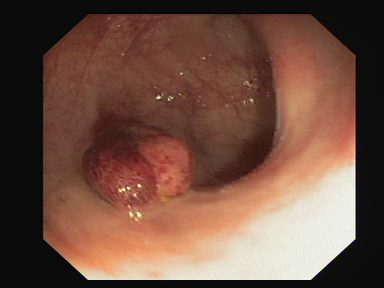polyp: (71, 101, 206, 205)
